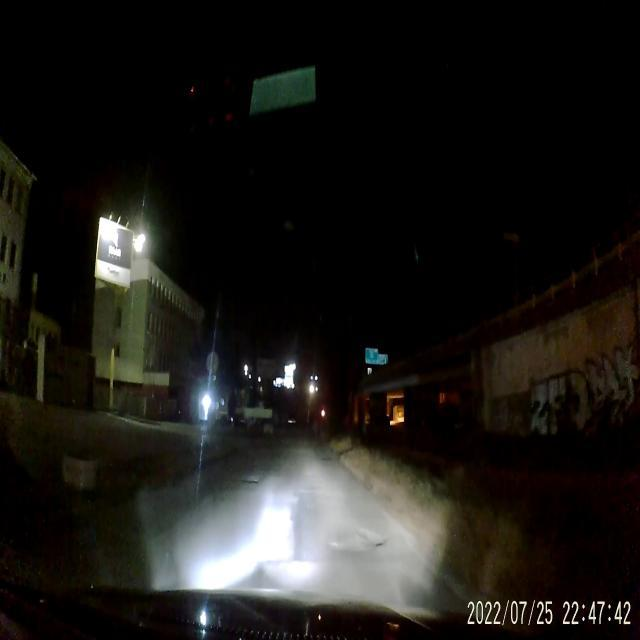Pothole: (330, 525, 362, 554), (360, 521, 388, 550), (239, 476, 260, 486)
